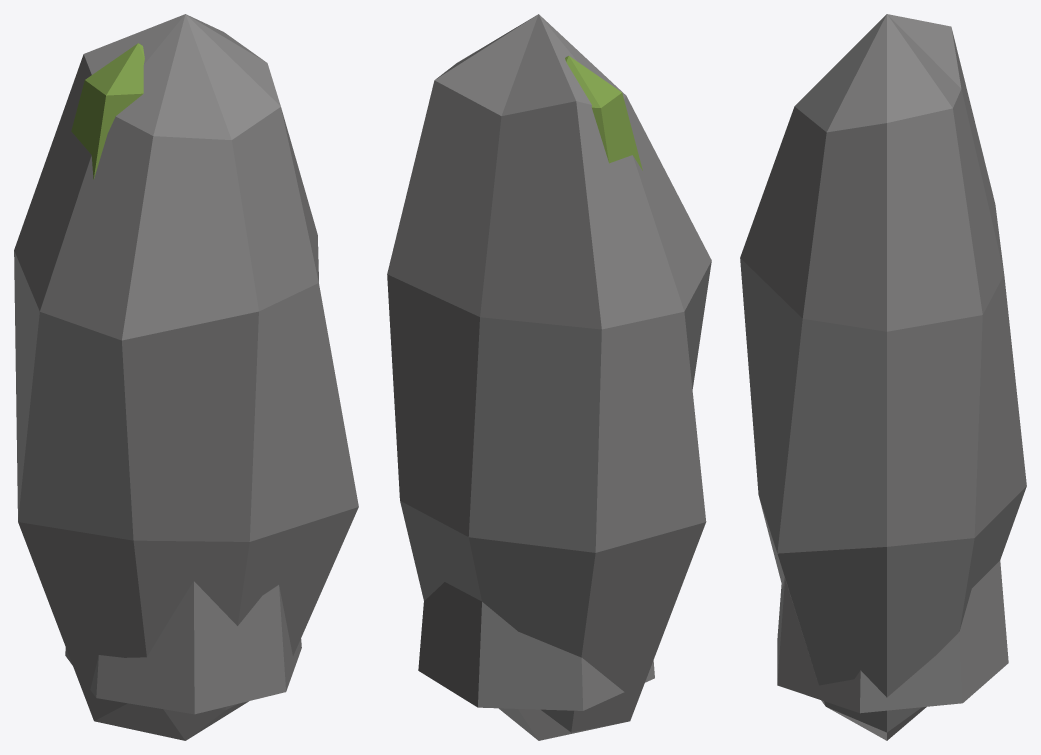
File: stone_tall.glb
3 renders of one model, left to right at view 1: azimuth 30°, elevation 25°; view 2: azimuth 150°, elevation 25°; view 3: azimuth 270°, elevation 25°, orthographic.
Visible parts, largest first — view 1: Stone; view 2: Stone; view 3: Stone.
Part boxes in pixels (box(x1,y1,x2,y2)): Stone: box(14, 14, 358, 740); Stone: box(387, 14, 711, 740); Stone: box(740, 14, 1026, 740).
Bounding box in the file's own units: 9.85 × 22.4 × 8.01.
